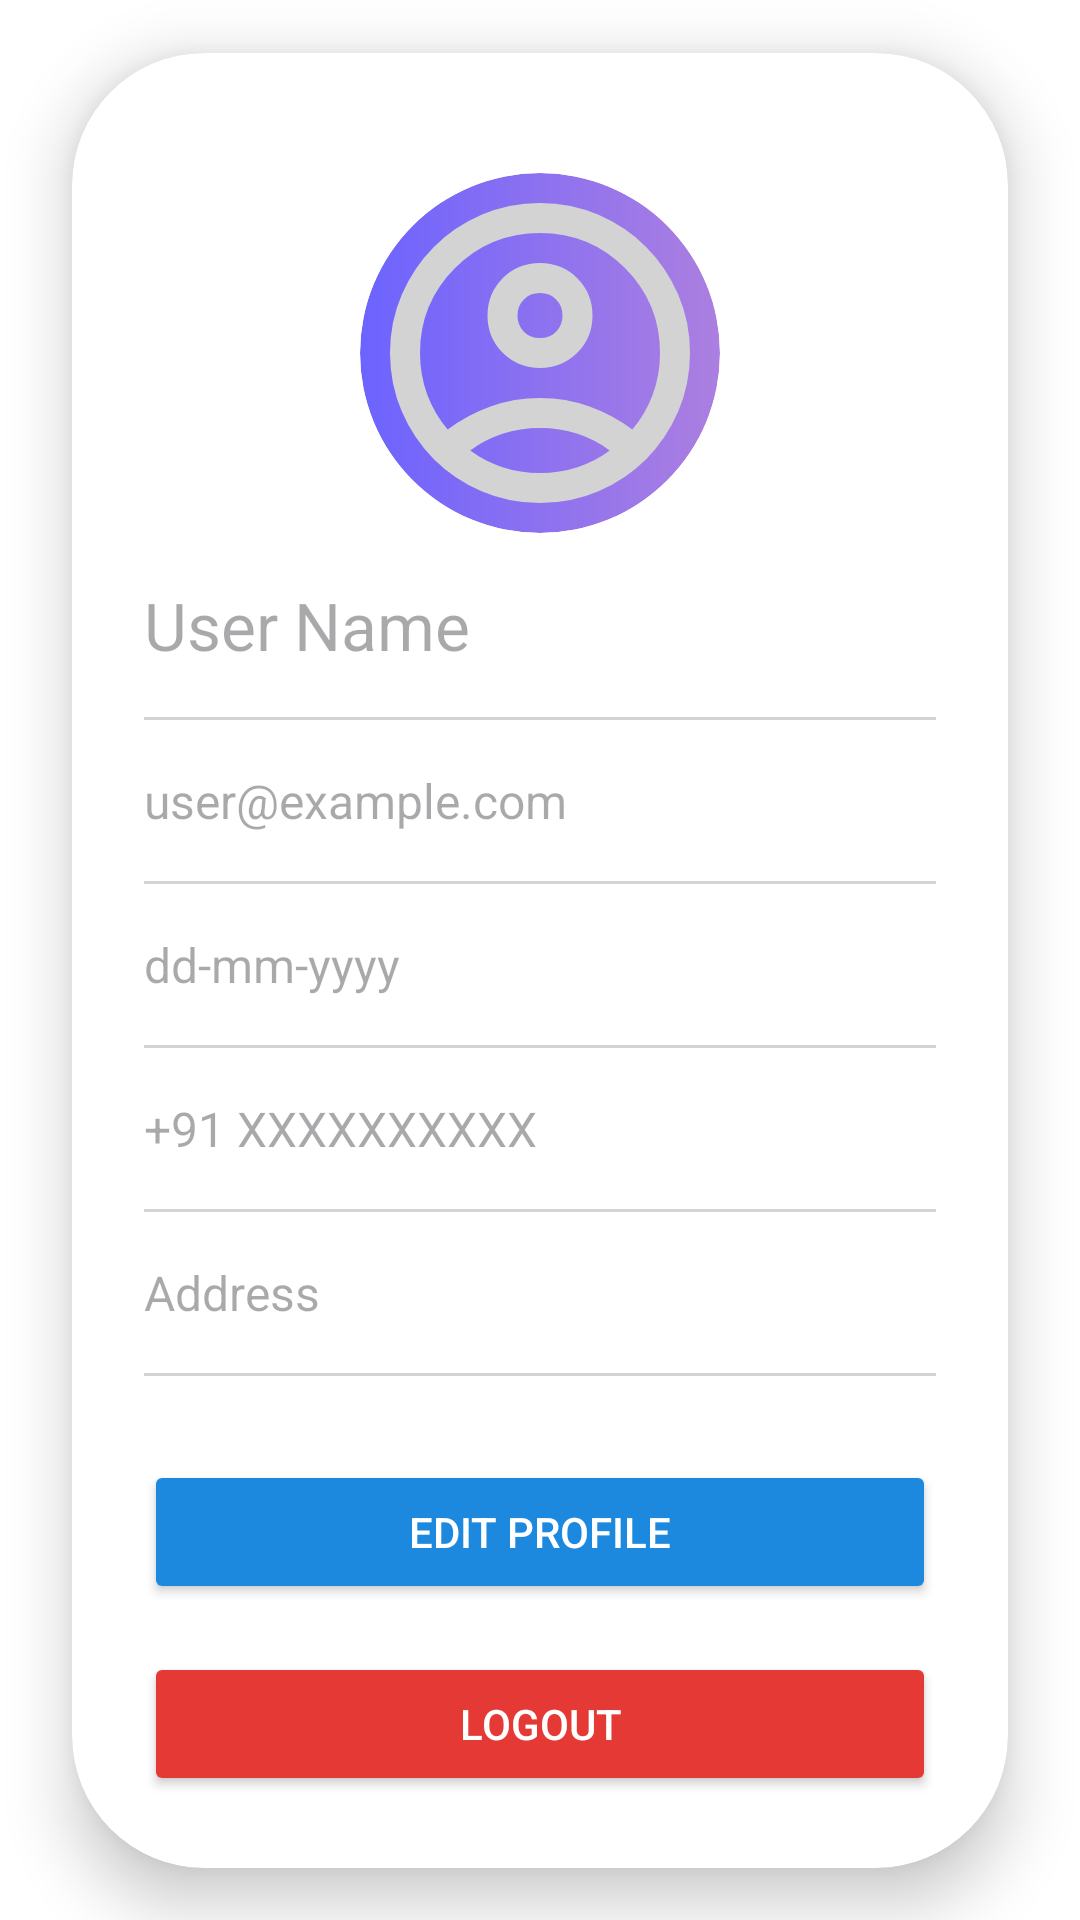

Named icons in this screenshot (1080×1920) and their bounding boxes, (x1,y1,x2,y2):
account person: (360,173,720,533)
